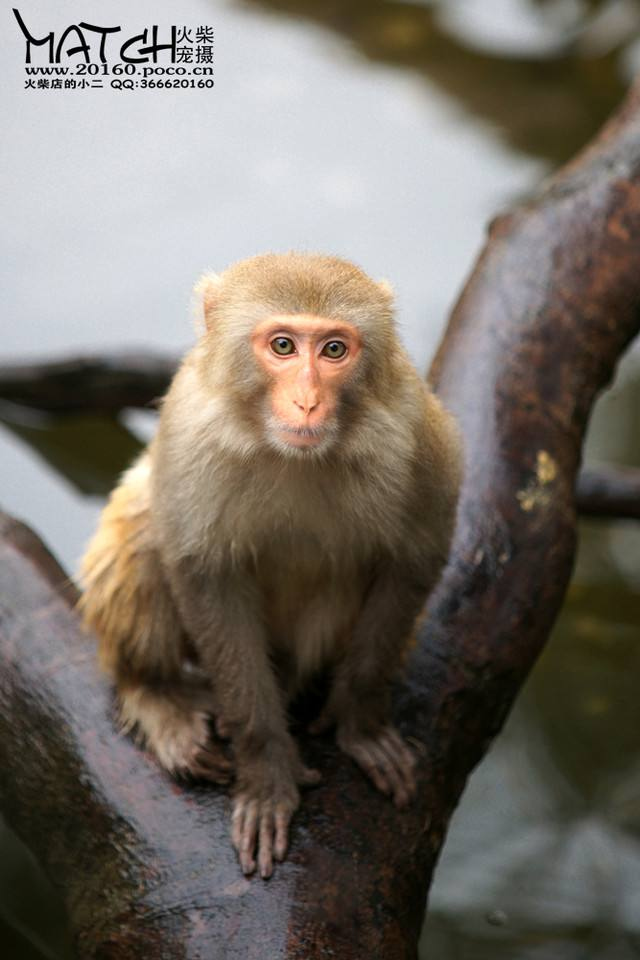monkey: (80, 227, 491, 861)
